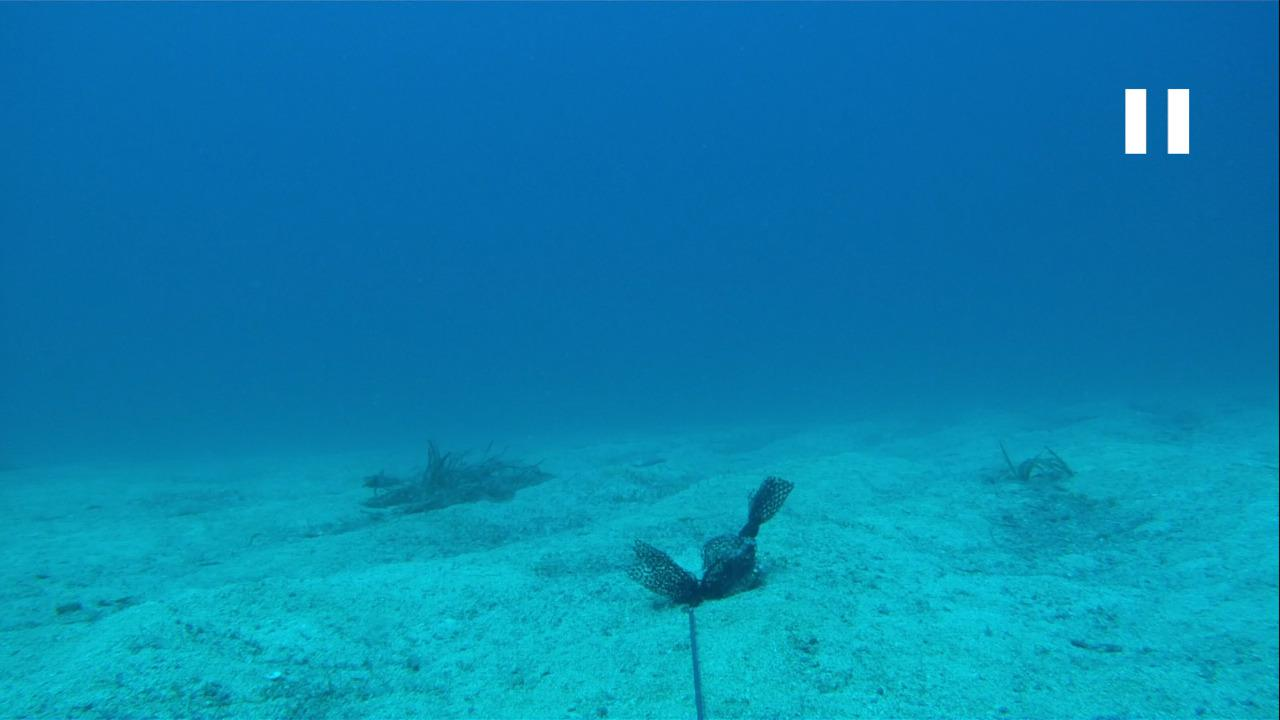dactylopterus: (357, 465, 411, 490)
